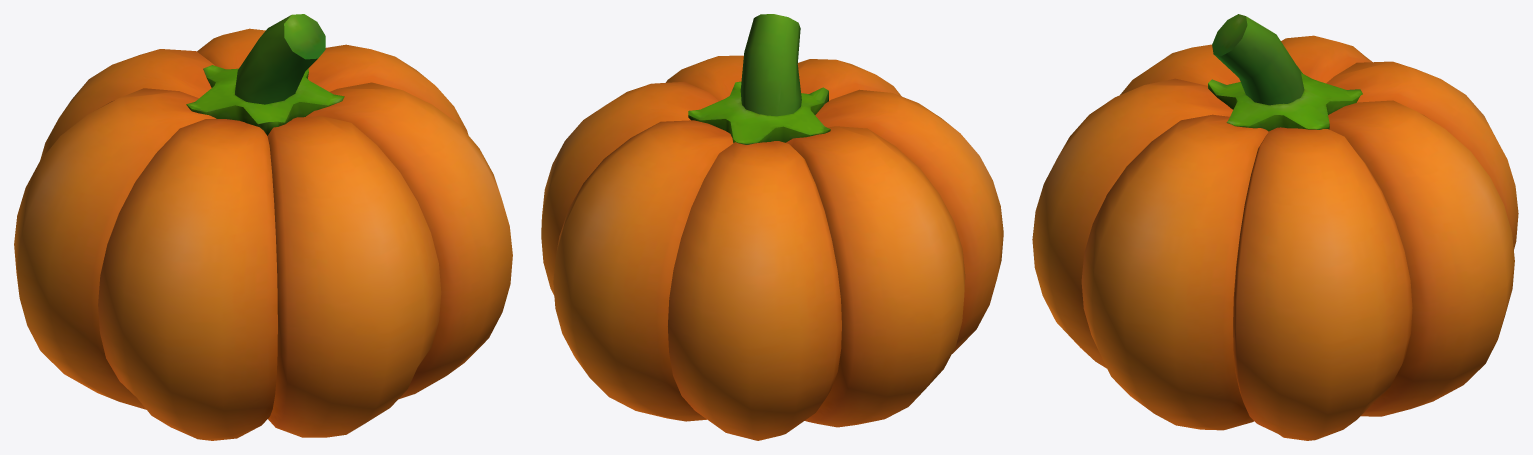
Rendered from 0-pumpkin.fbx.
3 renders of one model, left to right at view 1: azimuth 30°, elevation 25°; view 2: azimuth 150°, elevation 25°; view 3: azimuth 270°, elevation 25°, orthographic. The views are drawn at different scales.
Visible parts, largest first — view 1: 0-pumpkin; view 2: 0-pumpkin; view 3: 0-pumpkin.
Boxes of the visible parts, <box> form: 0-pumpkin: <box>14,14,512,440</box>; 0-pumpkin: <box>541,14,1003,440</box>; 0-pumpkin: <box>1032,14,1518,440</box>.
Bounding box in the file's own units: 95.1 × 83.22 × 94.73.
